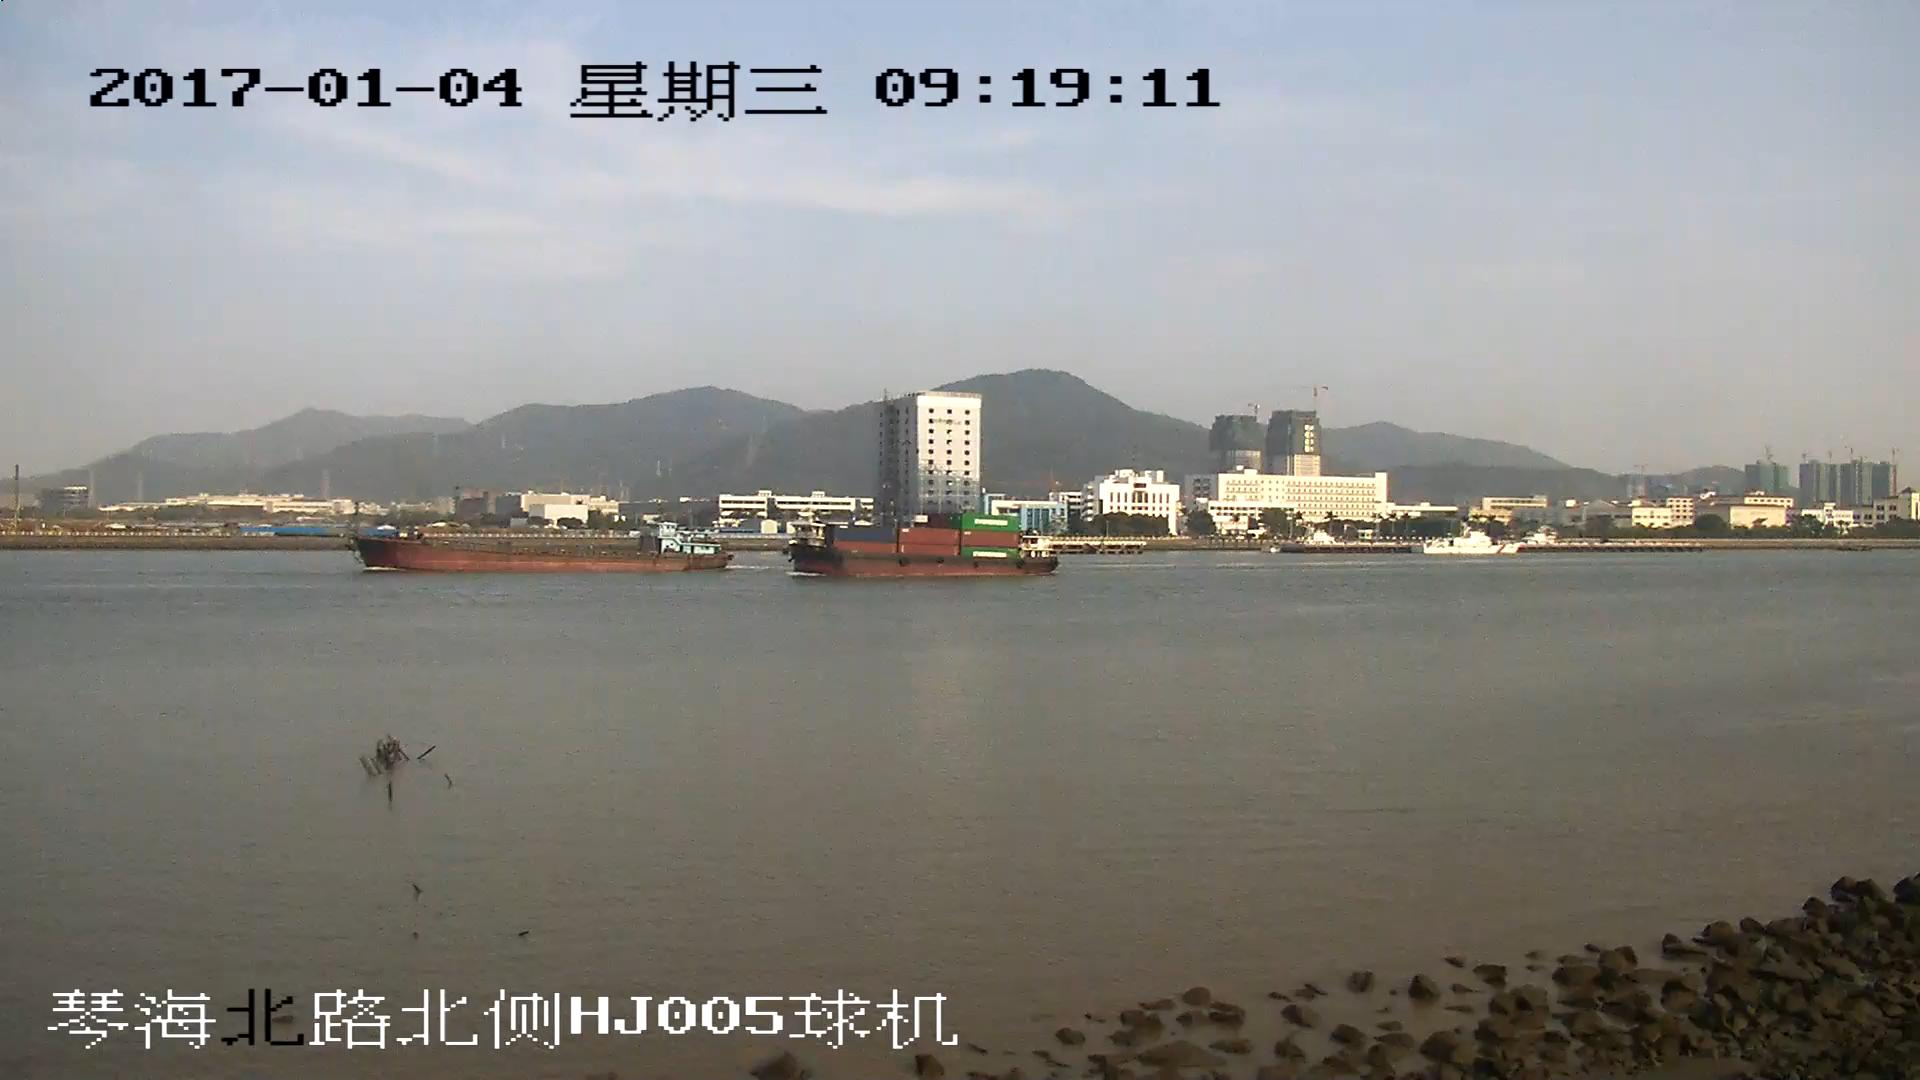bulk cargo carrier: (352, 519, 733, 570)
container ship: (789, 514, 1058, 577)
